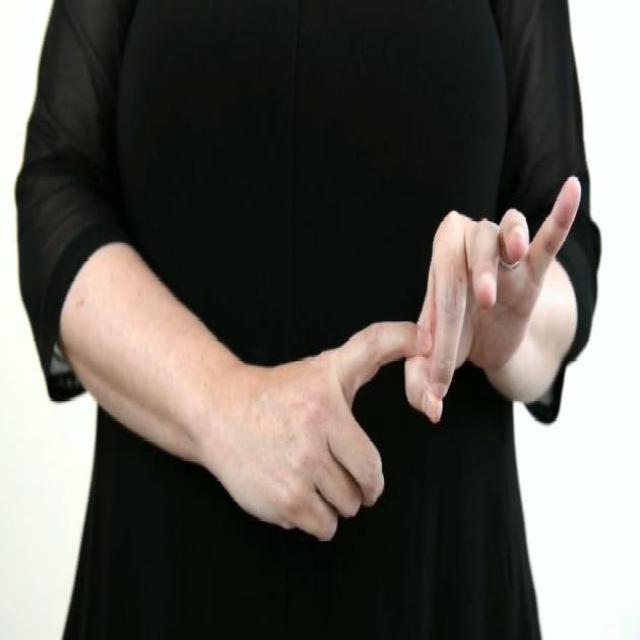Q: (245, 175, 583, 552)
